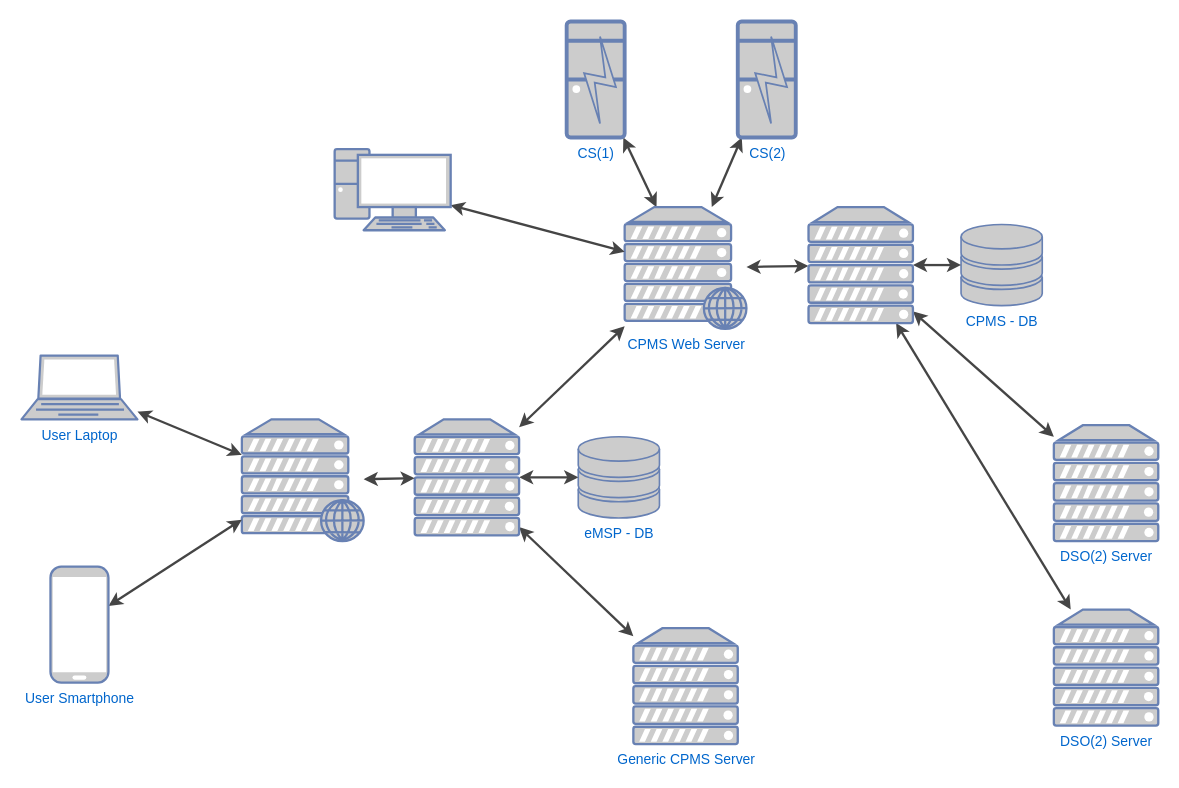
Some shapes in this 1179 by 788 pixel diagram are drawn without their labels. Here are the shapes that lost their labels. From the top down, the centre of each, then its label:
(x=392, y=189): CPO employee
(x=860, y=264): CPMS App Server
(x=302, y=480): eMSP Web Server
(x=466, y=477): eMSP App Server
